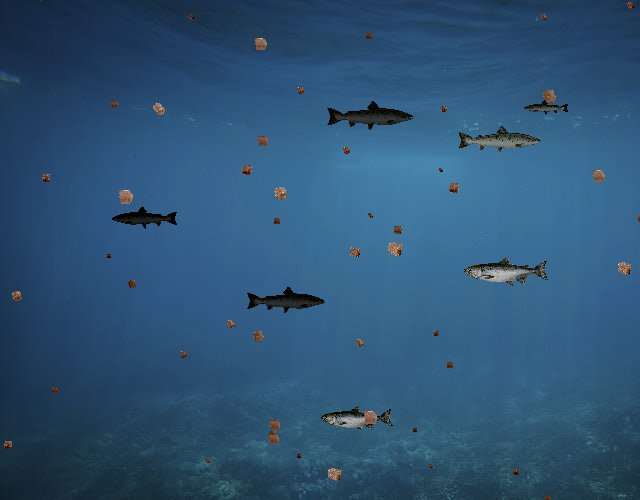Fish: (326, 100, 416, 132), (456, 124, 542, 155), (464, 256, 550, 287), (245, 285, 326, 314), (321, 406, 394, 432), (112, 205, 180, 230), (524, 99, 571, 116)
Pellet: (110, 182, 140, 212), (247, 31, 274, 58), (5, 285, 28, 307), (235, 159, 258, 181), (350, 333, 369, 352), (388, 221, 406, 239), (508, 465, 522, 479), (362, 29, 376, 43), (430, 327, 443, 340), (185, 10, 198, 23), (202, 456, 212, 466)
